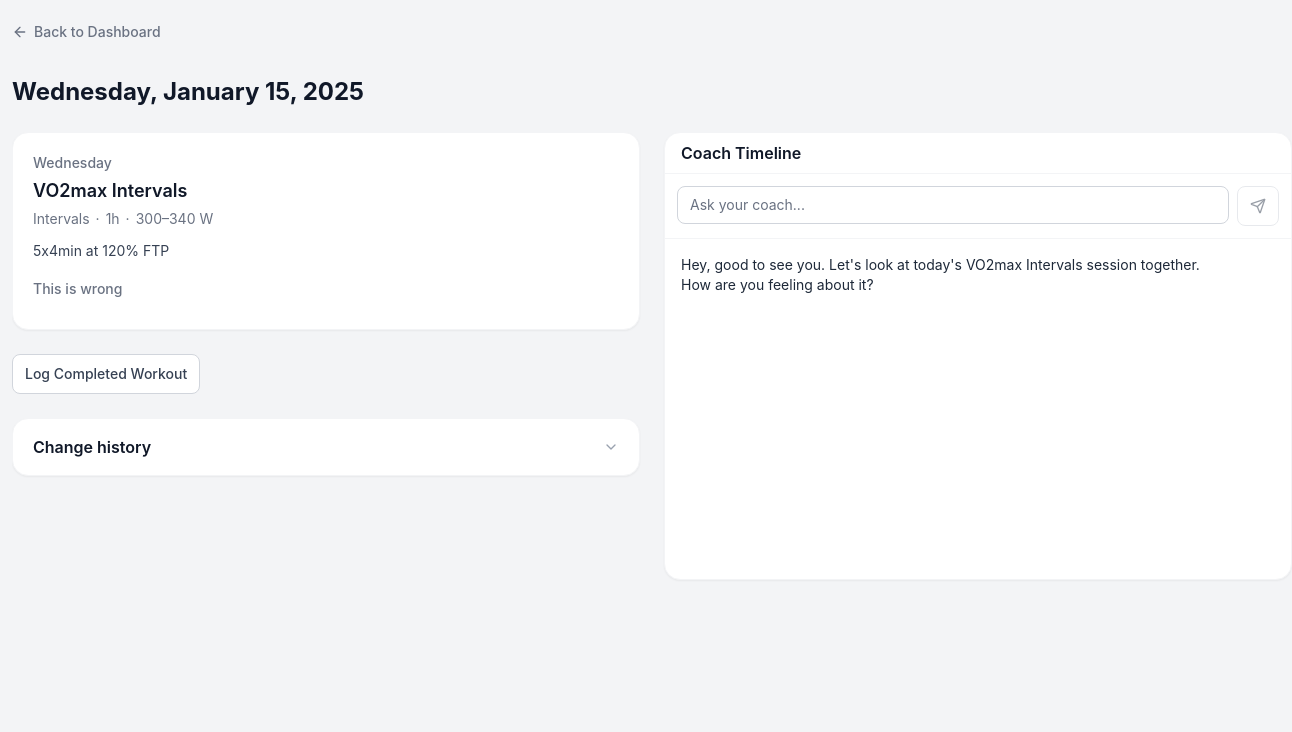
WorkoutPage › shows an empty-state message when the day has no recorded changes
Click the button "Change history" at (92, 447), box x1=13 y1=419 x2=639 y2=475
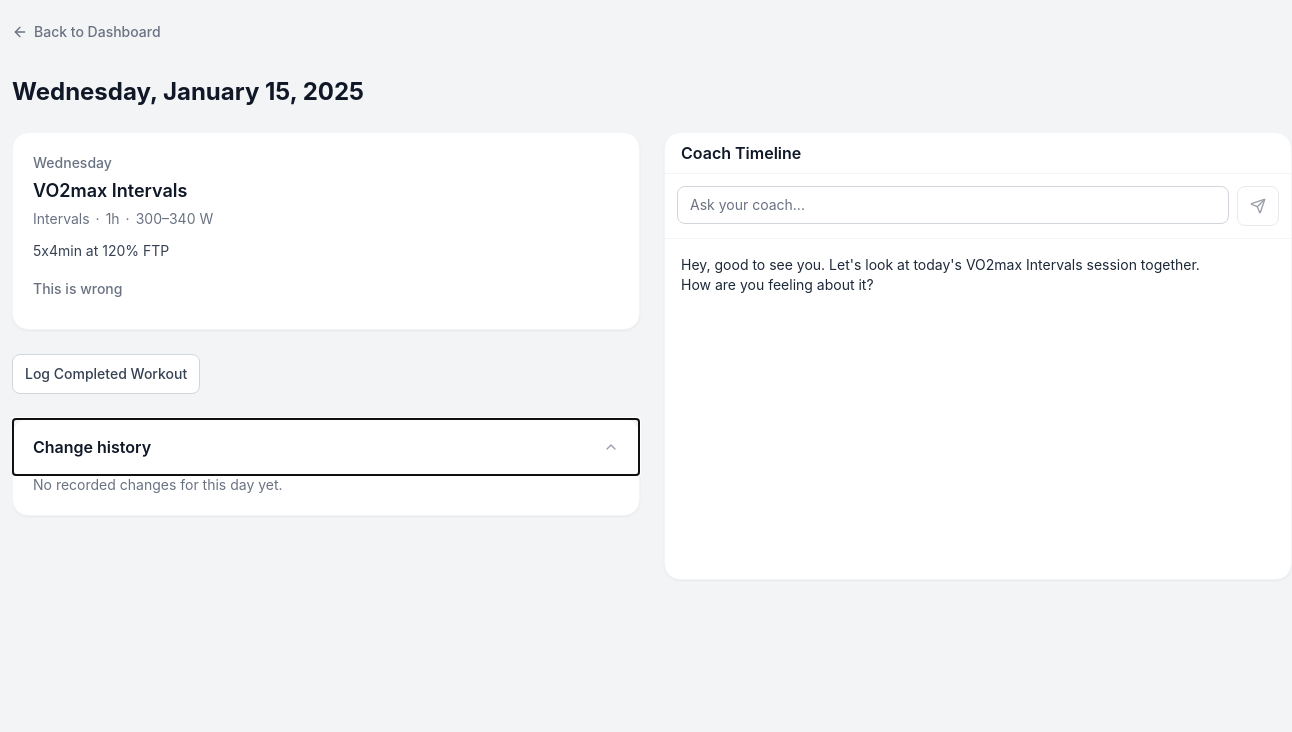
Now the text "No recorded changes for this day yet." is shown, box x1=33 y1=476 x2=283 y2=493
